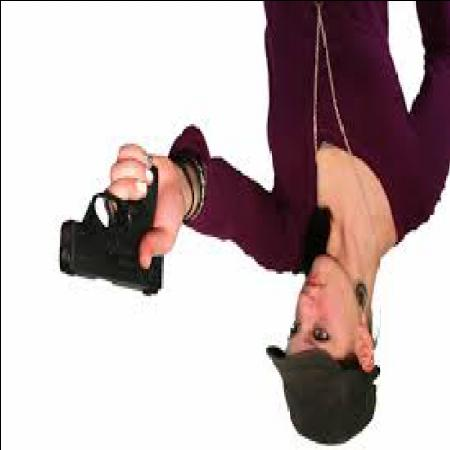Pistol: (52, 150, 162, 308)
